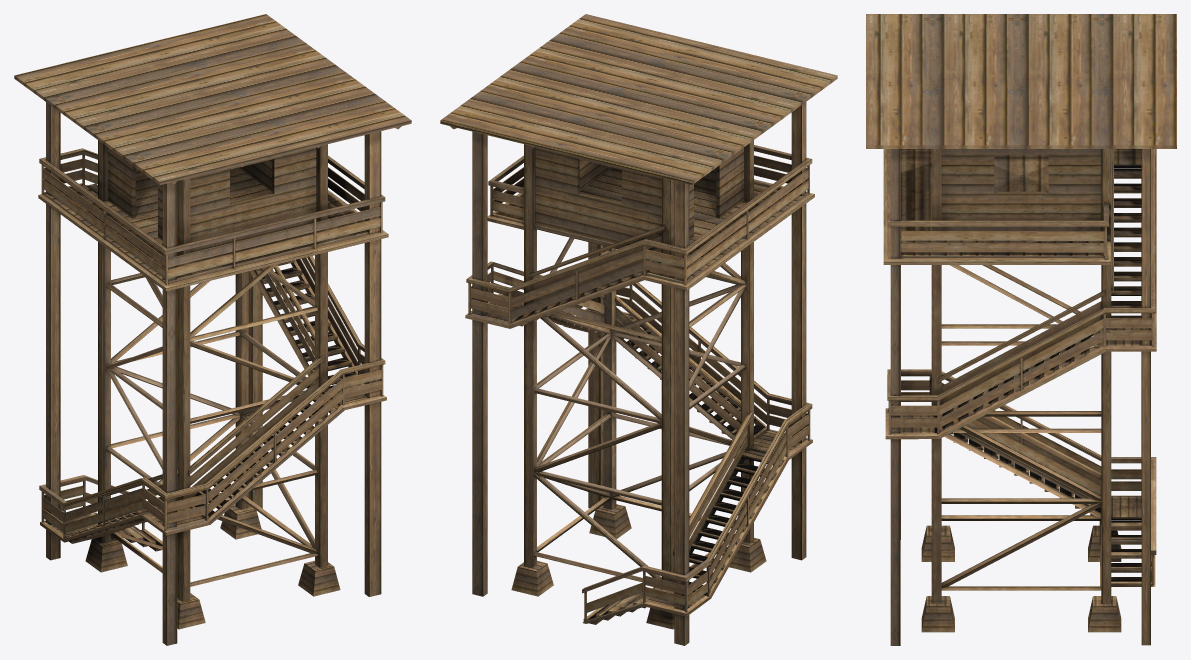
The model's file is torre_madeira_observacao.glb.
The picture shows the model from 3 angles, left to right: view 1: azimuth 30°, elevation 25°; view 2: azimuth 150°, elevation 25°; view 3: azimuth 270°, elevation 25°; orthographic projection. The views are drawn at different scales.
Visible parts, largest first — view 1: watchtowerHigh; view 2: watchtowerHigh; view 3: watchtowerHigh.
Part boxes in pixels (x1,y1,x2,y2): watchtowerHigh: (14,14,411,645); watchtowerHigh: (440,14,837,645); watchtowerHigh: (866,14,1176,645).
Bounding box in the file's own units: 7.2 × 13.04 × 7.2.
Materials: 1 (1 with a texture image).
